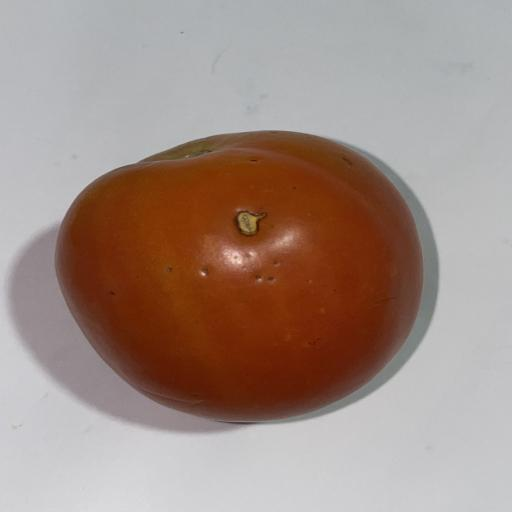ripe: (55, 131, 423, 421)
